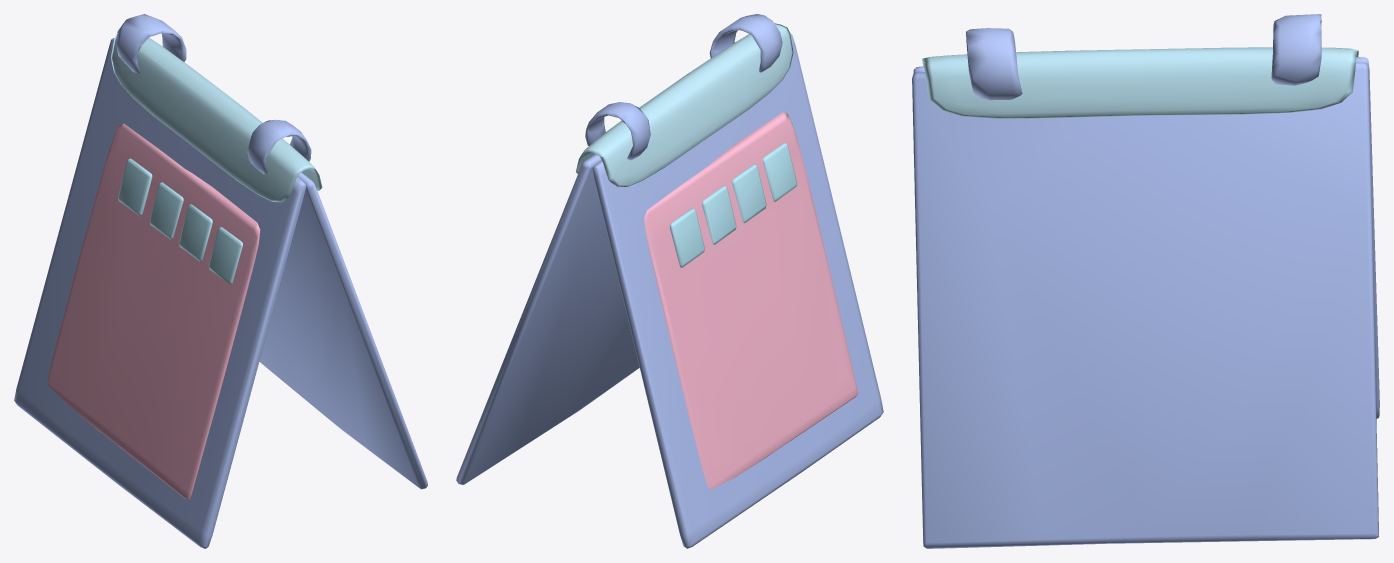
The picture shows the model from 3 angles, left to right: view 1: azimuth 30°, elevation 25°; view 2: azimuth 150°, elevation 25°; view 3: azimuth 270°, elevation 25°; orthographic projection. The views are drawn at different scales.
Parts seen in each view (by area): view 1: s.0525, s.0528, s.0520, s.0523, s.0526; view 2: s.0525, s.0528, s.0520, s.0523, s.0526; view 3: s.0525, s.0520, s.0526.
Boxes of the visible parts, x1,y1,x2,y2 form: s.0525: (14, 38, 427, 548); s.0528: (47, 123, 260, 500); s.0520: (111, 34, 322, 202); s.0523: (118, 158, 242, 284); s.0526: (115, 14, 311, 174); s.0525: (456, 33, 883, 548); s.0528: (644, 112, 857, 489); s.0520: (576, 23, 793, 186); s.0523: (669, 143, 797, 267); s.0526: (585, 14, 782, 160); s.0525: (912, 57, 1379, 548); s.0520: (922, 47, 1358, 118); s.0526: (966, 14, 1321, 100).
Size of the model in its own units: 23.44 by 37.97 by 34.35.
